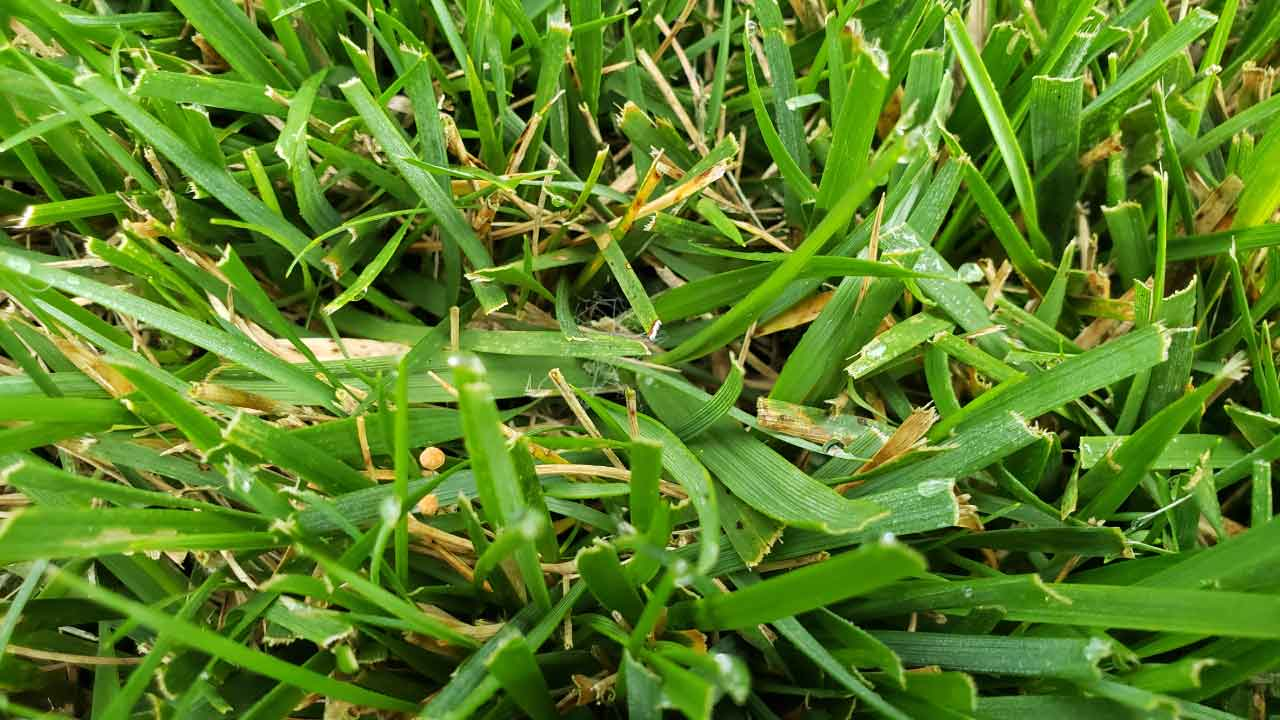grass: (2, 1, 1280, 720)
